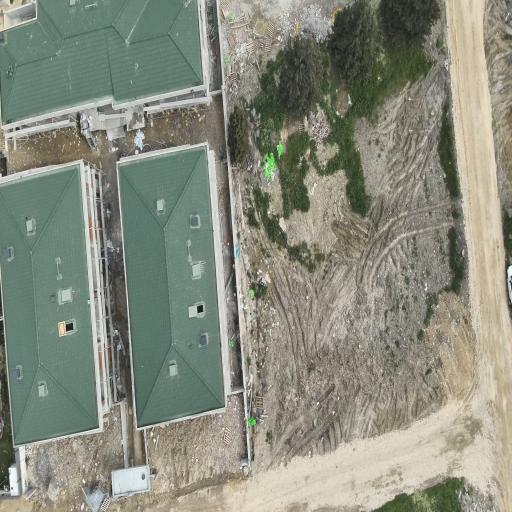car: (507, 266, 511, 304)
